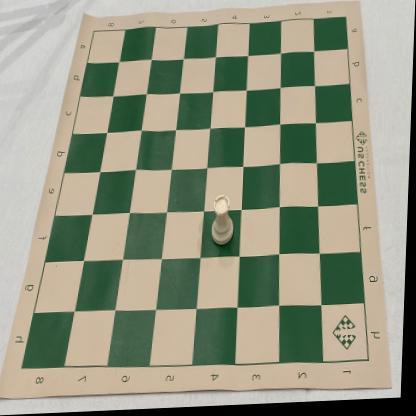white-rook: (212, 196, 237, 249)
